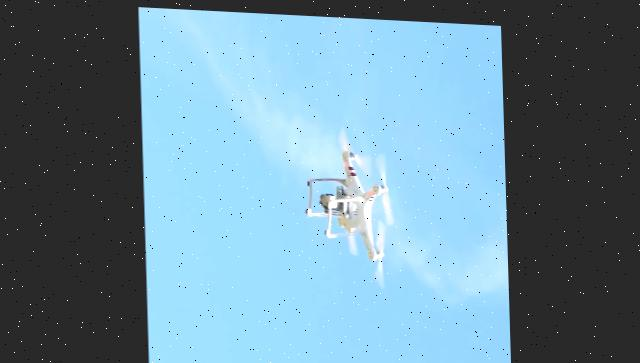drone: (301, 141, 392, 266)
